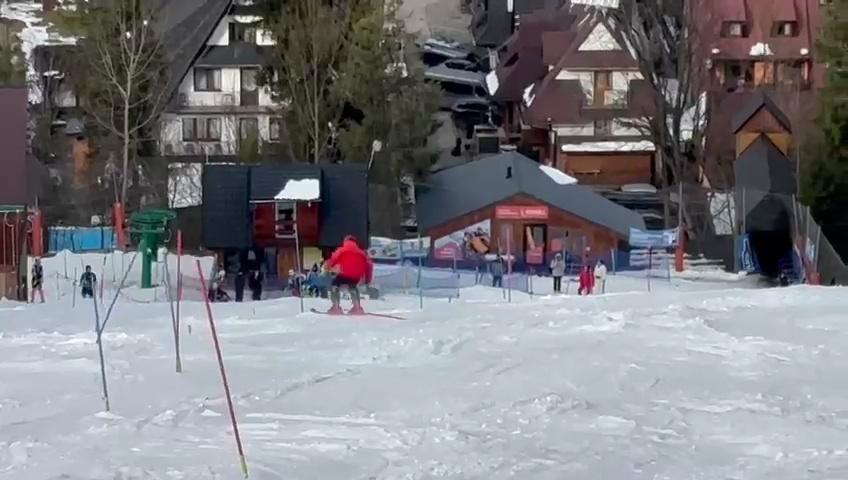gate: (187, 256, 277, 480), (167, 227, 192, 382), (92, 276, 113, 413)
